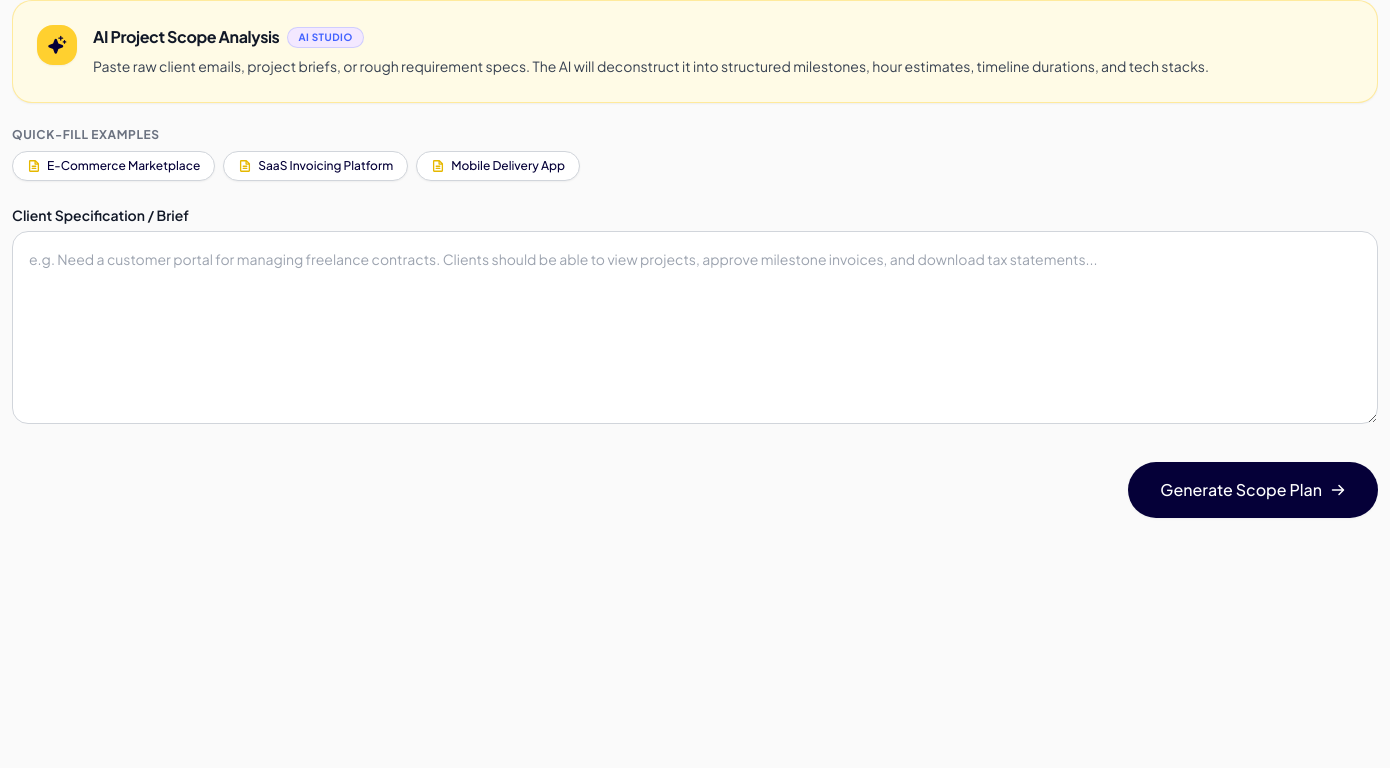
ScopeGeneratorForm › validates minimum length on submission
Replace the text in the text box with "Short" at x=695, y=327, box [12,231,1378,424]
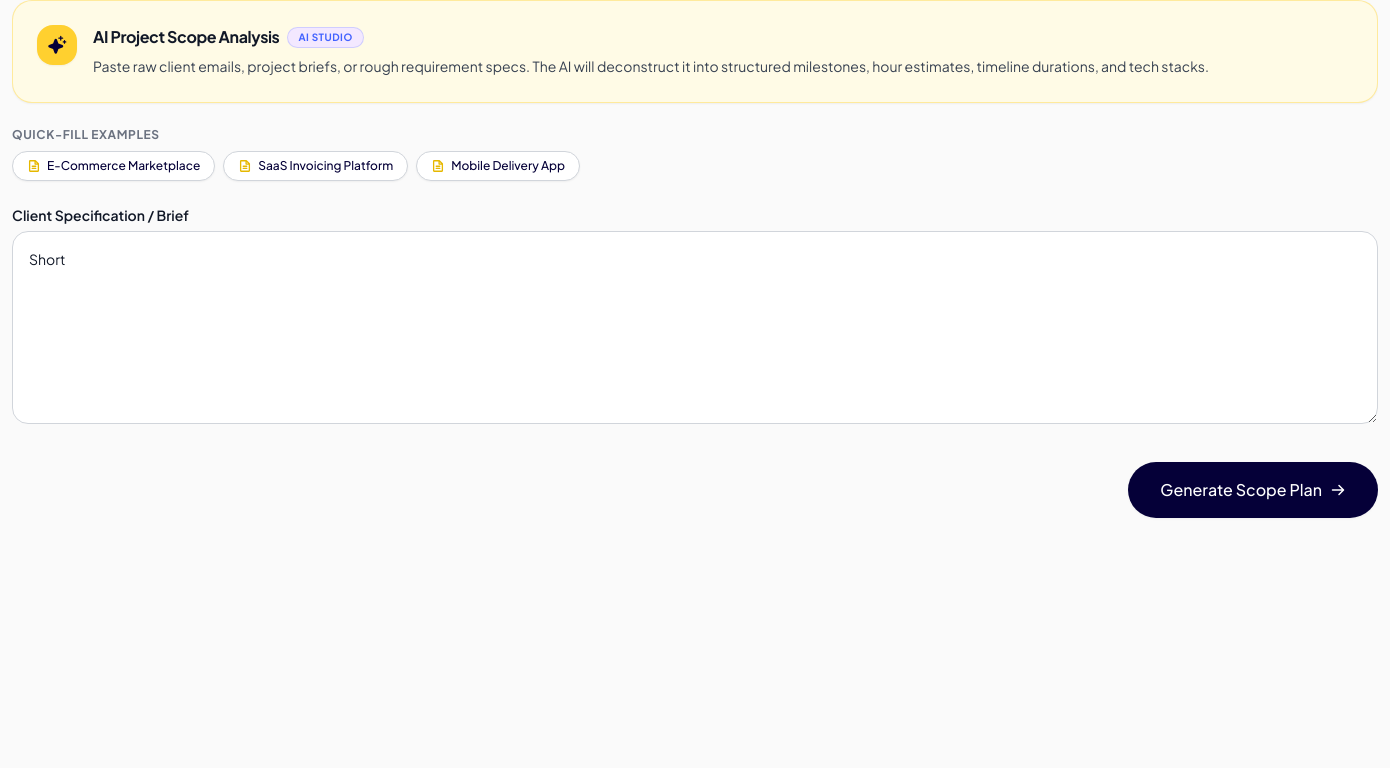
Submit the form
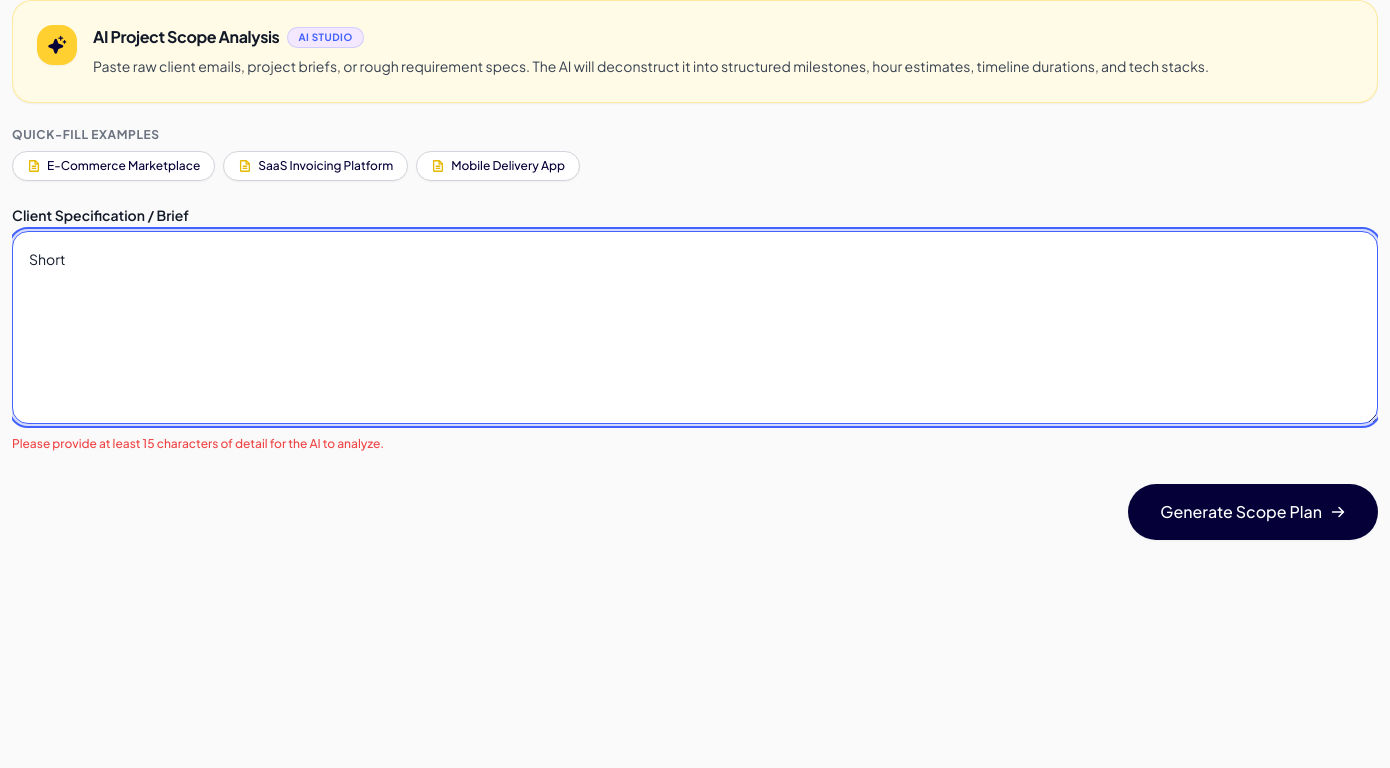
Check: the text "Please provide at least 15 characters" is shown, box [12,436,384,451]
